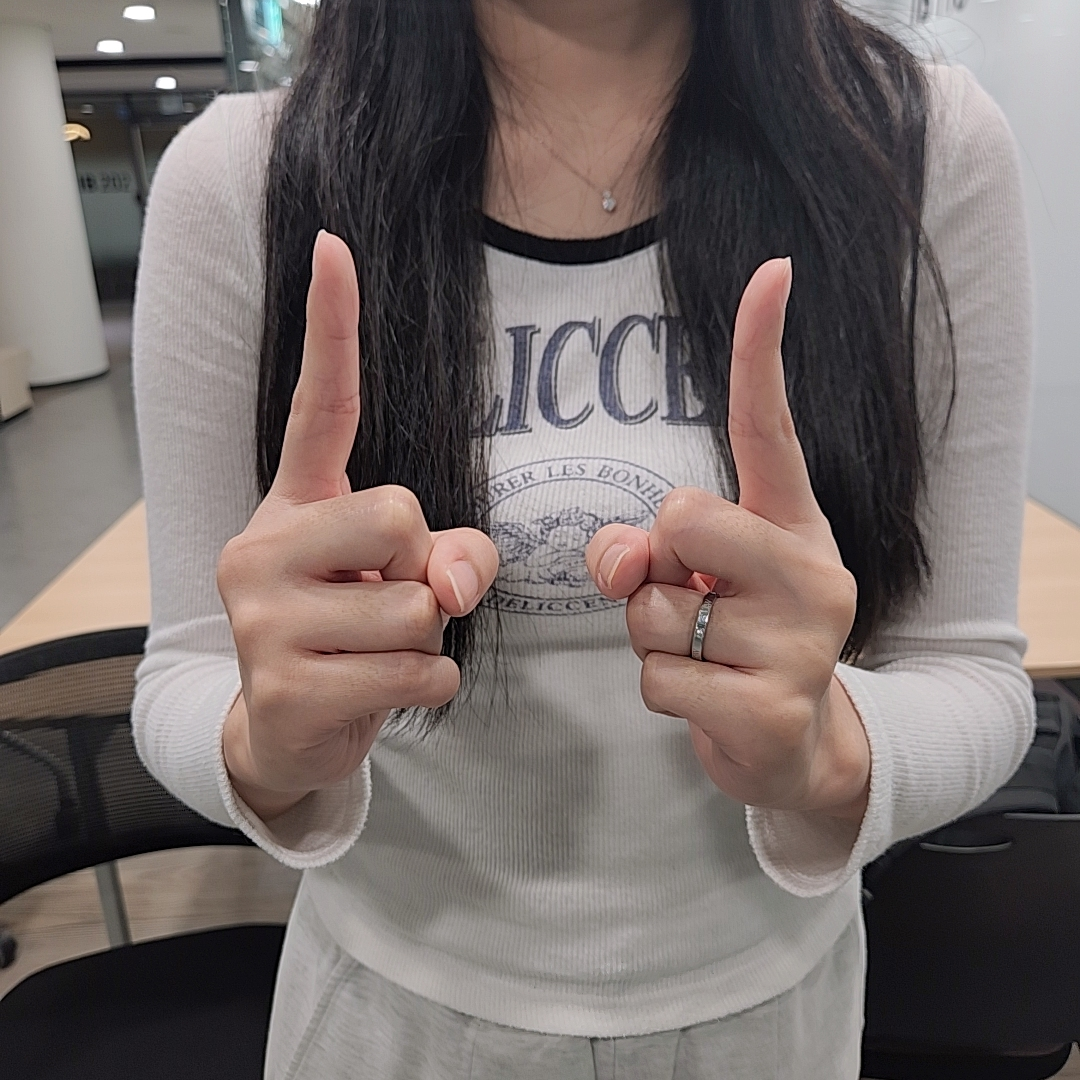meet: (216, 230, 862, 825)
